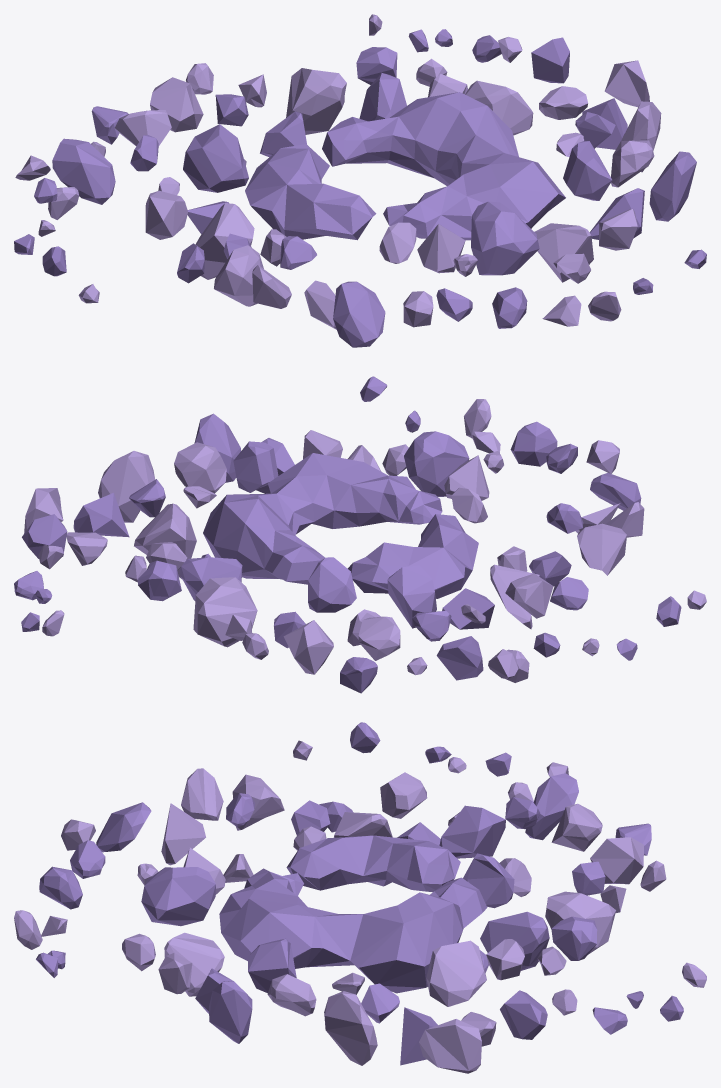
The model's file is Asteroids.FBX.
The picture shows the model from 3 angles, top to bottom: view 1: azimuth 30°, elevation 25°; view 2: azimuth 150°, elevation 25°; view 3: azimuth 270°, elevation 25°; orthographic projection. The views are drawn at different scales.
Parts seen in each view (by area): view 1: Asteroids; view 2: Asteroids; view 3: Asteroids.
Part boxes in pixels (<box>): Asteroids: <box>14,14,706,347</box>; Asteroids: <box>14,376,706,693</box>; Asteroids: <box>14,722,706,1073</box>.
Size of the model in its own units: 74.16 by 11.14 by 71.08.
